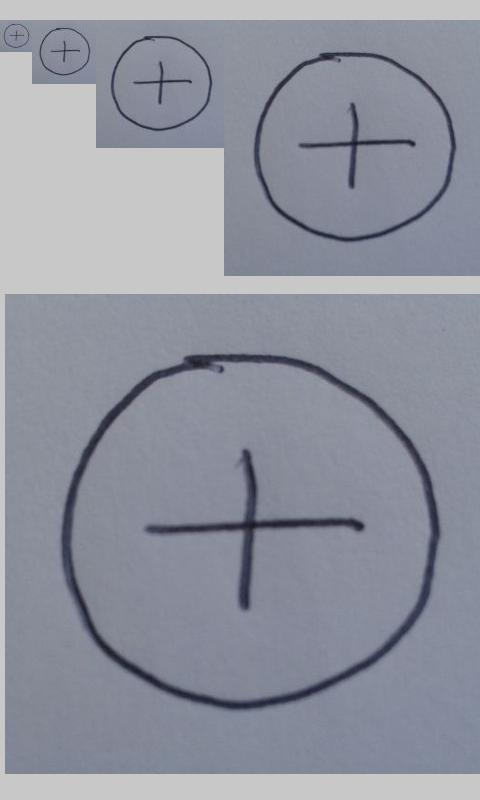button: (56, 350, 443, 711), (253, 51, 457, 243), (110, 35, 215, 132), (39, 27, 91, 76), (3, 23, 30, 49)
